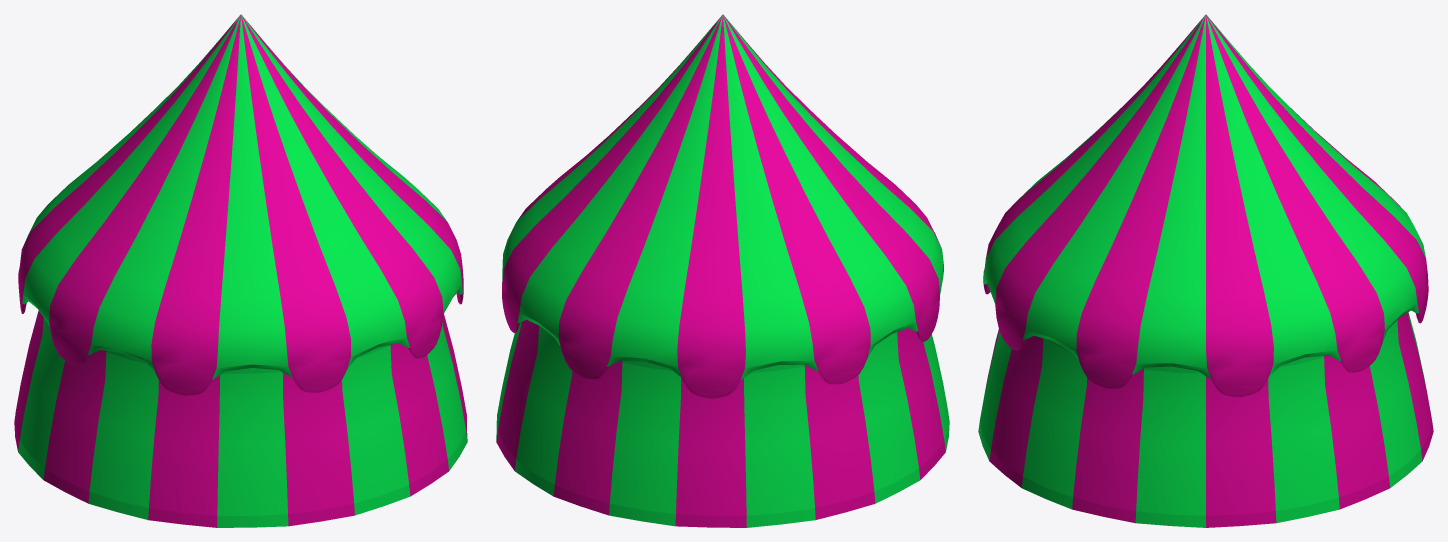
The model's file is SimpleTent.fbx.
3 renders of one model, left to right at view 1: azimuth 30°, elevation 25°; view 2: azimuth 150°, elevation 25°; view 3: azimuth 270°, elevation 25°, orthographic.
Visible parts, largest first — view 1: SimpleTent; view 2: SimpleTent; view 3: SimpleTent.
Boxes of the visible parts, x1=… form: SimpleTent: x1=14, y1=14, x2=467, y2=527; SimpleTent: x1=496, y1=14, x2=949, y2=527; SimpleTent: x1=978, y1=14, x2=1433, y2=527.
Size of the model in its own units: 1763 by 1785 by 1763.
